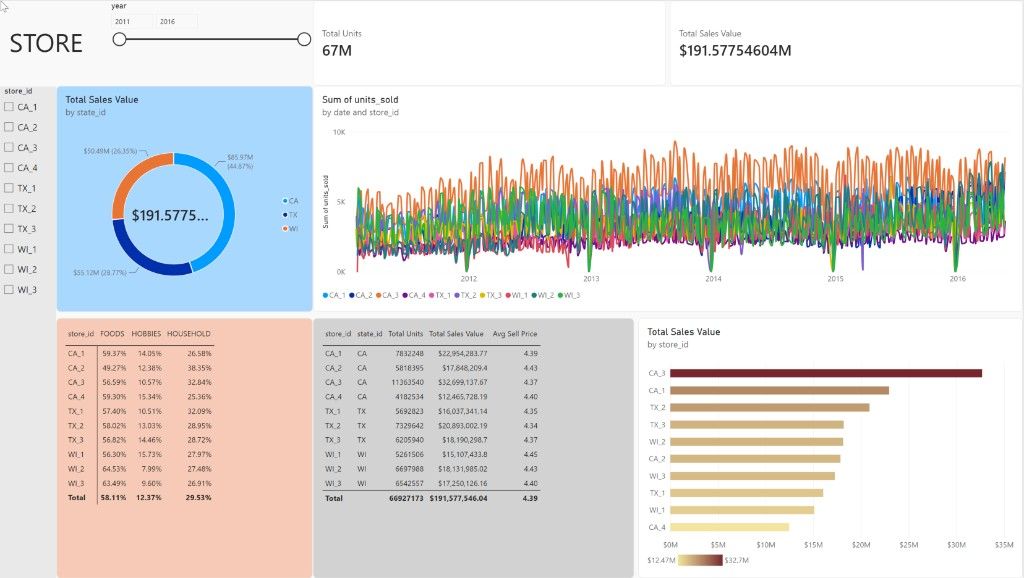

Layout of this report page (visuals, bound fields, positions):
{"tool":"powerbi","page":{"name":"Page 2","canvas":[1920,1080],"ordinal":1},"visuals":[{"type":"slicer","fields":{"Values":["`workspace` `walmart_m5_gold` `dim_store`.store_id"]},"box":[9.7,160.2,105,919.9],"z":0},{"type":"slicer","fields":{"Values":["`workspace` `walmart_m5_gold` `dim_date`.year"]},"box":[248.7,0,220.2,159.7],"z":1000},{"type":"cardVisual","fields":{"Data":["Table.Total Units","Table.Total Sales Value"]},"box":[465.5,0,1454.5,159.7],"z":2000},{"type":"donutChart","fields":{"Category":["`workspace` `walmart_m5_gold` `dim_store`.state_id"],"Y":["Table.Total Sales Value"]},"box":[114.4,159.4,479.4,422.8],"z":3000},{"type":"clusteredBarChart","fields":{"Category":["`workspace` `walmart_m5_gold` `dim_store`.store_id"],"Y":["Table.Total Sales Value"]},"box":[1201.4,593.8,718.6,486.4],"z":4000},{"type":"lineChart","fields":{"Category":["`workspace` `walmart_m5_gold` `agg_daily_store_sales`.date.Variation.Date Hierarchy.Year"],"Series":["`workspace` `walmart_m5_gold` `agg_daily_store_sales`.store_id"],"Y":["Sum(`workspace` `walmart_m5_gold` `agg_daily_store_sales`.units_sold)"]},"box":[593.8,159.4,1326.2,422.8],"z":5000},{"type":"pivotTable","fields":{"Columns":["`workspace` `walmart_m5_gold` `agg_store_category_sales`.cat_id"],"Rows":["`workspace` `walmart_m5_gold` `agg_store_category_sales`.store_id"],"Values":["Table.Category Share"]},"box":[114.1,593.2,479.1,487.1],"z":6000},{"type":"tableEx","fields":{"Values":["`workspace` `walmart_m5_gold` `dim_store`.store_id","`workspace` `walmart_m5_gold` `dim_store`.state_id","Table.Total Units","Table.Total Sales Value","Table.Avg Sell Price"]},"box":[593.2,593.2,600.1,487.1],"z":7000},{"type":"textbox","box":[99,0,150,160],"z":8000}]}

Visuals, with their boxes in screenshot pixels (x1, y1, x2, y2), scaled from the page's 1920x1080 canvas onto the 1024x578 screenshot:
slicer - `workspace` `walmart_m5_gold` `dim_store`.store_id: (left=5, top=86, right=61, bottom=577)
slicer - `workspace` `walmart_m5_gold` `dim_date`.year: (left=133, top=0, right=250, bottom=85)
cardVisual - Table.Total Units x Table.Total Sales Value: (left=248, top=0, right=1023, bottom=85)
donutChart - `workspace` `walmart_m5_gold` `dim_store`.state_id x Table.Total Sales Value: (left=61, top=85, right=317, bottom=312)
clusteredBarChart - `workspace` `walmart_m5_gold` `dim_store`.store_id x Table.Total Sales Value: (left=641, top=318, right=1023, bottom=577)
lineChart - `workspace` `walmart_m5_gold` `agg_daily_store_sales`.date.Variation.Date Hierarchy.Year x `workspace` `walmart_m5_gold` `agg_daily_store_sales`.store_id: (left=317, top=85, right=1023, bottom=312)
pivotTable - `workspace` `walmart_m5_gold` `agg_store_category_sales`.cat_id x `workspace` `walmart_m5_gold` `agg_store_category_sales`.store_id: (left=61, top=317, right=316, bottom=577)
tableEx - `workspace` `walmart_m5_gold` `dim_store`.store_id x `workspace` `walmart_m5_gold` `dim_store`.state_id: (left=316, top=317, right=636, bottom=577)
textbox: (left=53, top=0, right=133, bottom=86)
